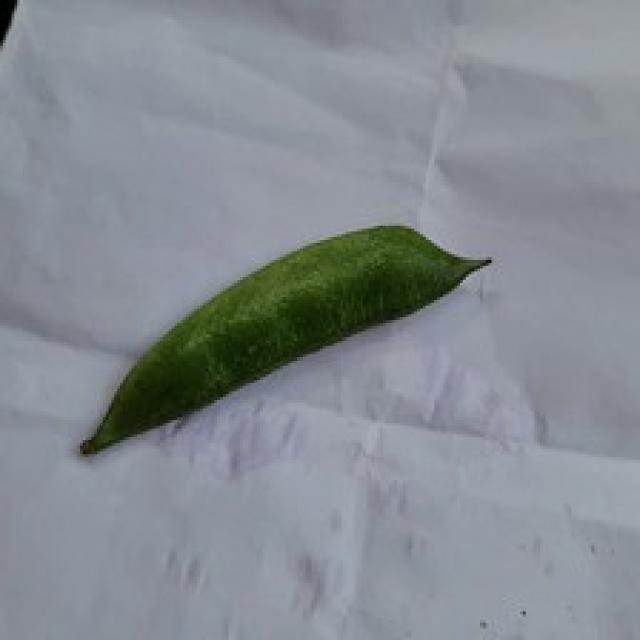Bean: (77, 220, 492, 457)
